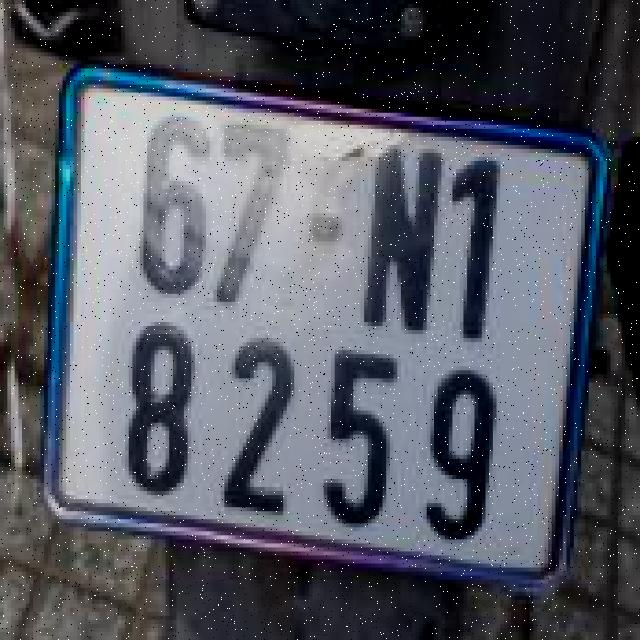1: (450, 147, 506, 348)
2: (217, 330, 305, 523)
5: (314, 336, 403, 541)
6: (131, 109, 215, 302)
7: (212, 107, 296, 308)
8: (110, 312, 202, 509)
9: (414, 356, 509, 566)
N: (357, 139, 445, 336)
